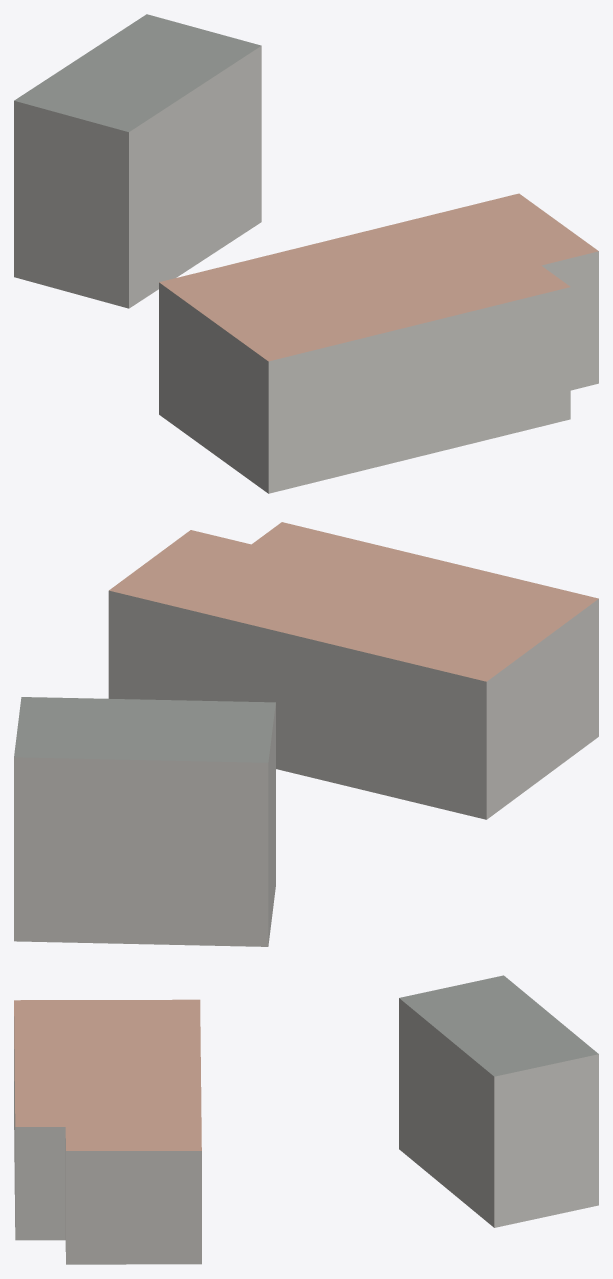
File: gridID_36.dae
3 renders of one model, top to bottom at view 1: azimuth 30°, elevation 25°; view 2: azimuth 150°, elevation 25°; view 3: azimuth 270°, elevation 25°, orthographic. The views are drawn at different scales.
Parts seen in each view (by area): view 1: model_gridID_36_w379069959, model_gridID_36_w379069942; view 2: model_gridID_36_w379069959, model_gridID_36_w379069942; view 3: model_gridID_36_w379069959, model_gridID_36_w379069942.
Boxes of the visible parts, bbox=[...] form: model_gridID_36_w379069959: bbox=[159, 193, 598, 493]; model_gridID_36_w379069942: bbox=[14, 14, 261, 308]; model_gridID_36_w379069959: bbox=[108, 522, 598, 819]; model_gridID_36_w379069942: bbox=[14, 697, 275, 946]; model_gridID_36_w379069959: bbox=[14, 999, 201, 1264]; model_gridID_36_w379069942: bbox=[399, 975, 598, 1227].
Bounding box in the file's own units: 21.46 × 35.04 × 10.
